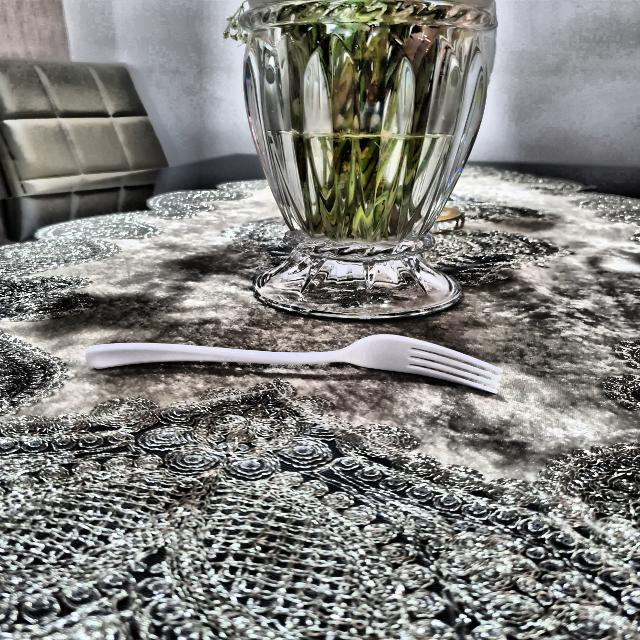plastic utensil: (86, 332, 506, 405)
